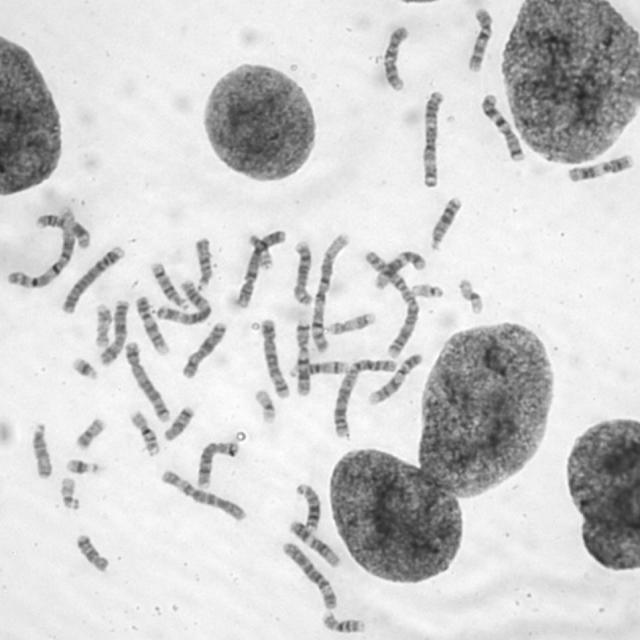A1: (6, 208, 81, 292), (309, 228, 352, 354)
A2: (362, 247, 421, 359), (329, 354, 399, 440)
A3: (152, 277, 213, 326), (418, 86, 445, 189)
B4: (59, 242, 127, 315), (231, 229, 288, 311)
B5: (121, 338, 172, 424), (258, 315, 292, 401)
C10: (379, 22, 410, 93), (464, 6, 494, 74)
C11: (32, 211, 93, 250), (564, 151, 634, 183)
C12: (286, 516, 342, 568), (371, 247, 428, 290)
C6: (157, 467, 250, 523), (279, 540, 338, 612)
C7: (478, 90, 527, 163), (291, 316, 313, 397)
C8: (193, 438, 240, 490), (289, 237, 314, 307)
C9: (365, 350, 424, 406), (134, 293, 170, 356)
D13: (426, 193, 463, 251), (293, 480, 322, 532)
D14: (148, 259, 189, 310), (286, 357, 350, 379)
D15: (29, 419, 54, 481), (192, 234, 214, 290)
E16: (128, 406, 162, 456), (318, 609, 367, 634)
E17: (324, 308, 377, 337), (91, 301, 113, 349)
E18: (73, 531, 111, 573), (161, 403, 195, 442)
F19: (455, 275, 486, 316), (253, 386, 278, 425)
F20: (72, 414, 108, 450), (245, 232, 275, 270)
G21: (63, 455, 103, 476), (70, 354, 100, 381)
G22: (58, 475, 81, 511), (406, 281, 446, 299)
X: (178, 319, 228, 380), (96, 298, 130, 368)
